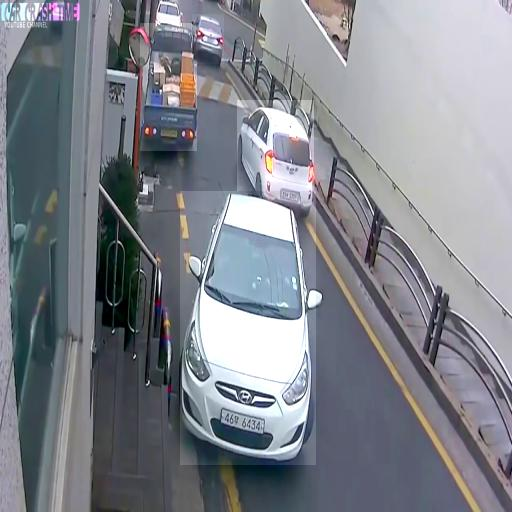小汽车: (180, 191, 316, 465), (237, 100, 314, 207), (140, 24, 197, 152), (192, 14, 224, 64)
